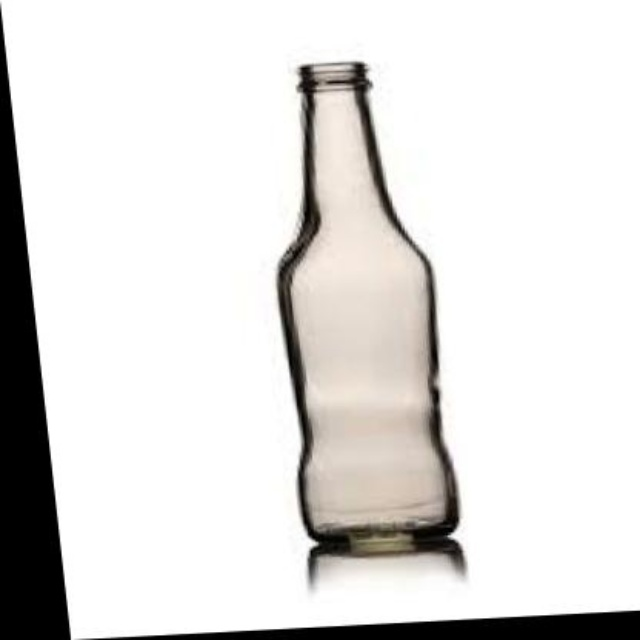trash: (278, 62, 457, 540)
